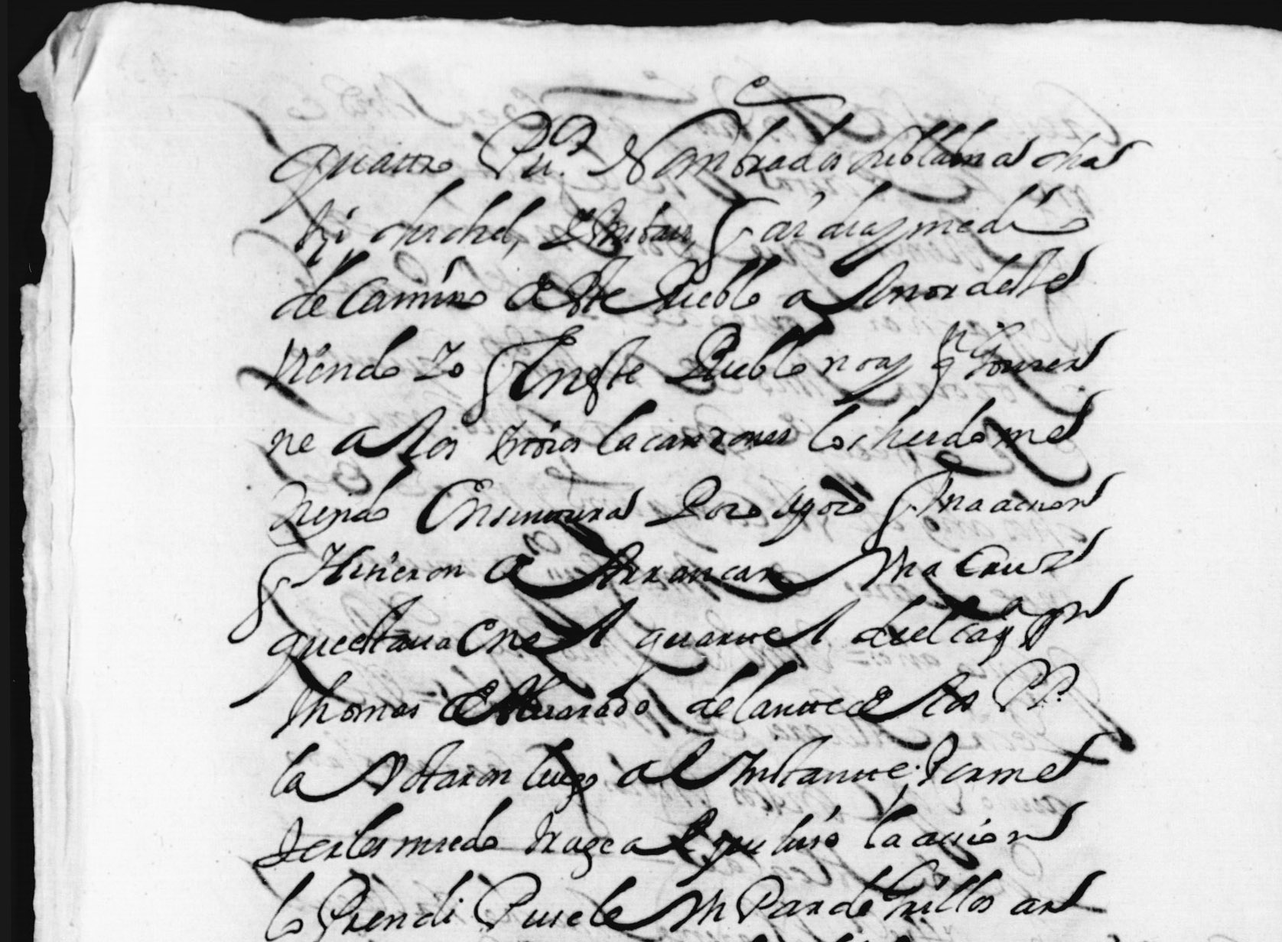lacandon: (597, 399, 791, 455)
